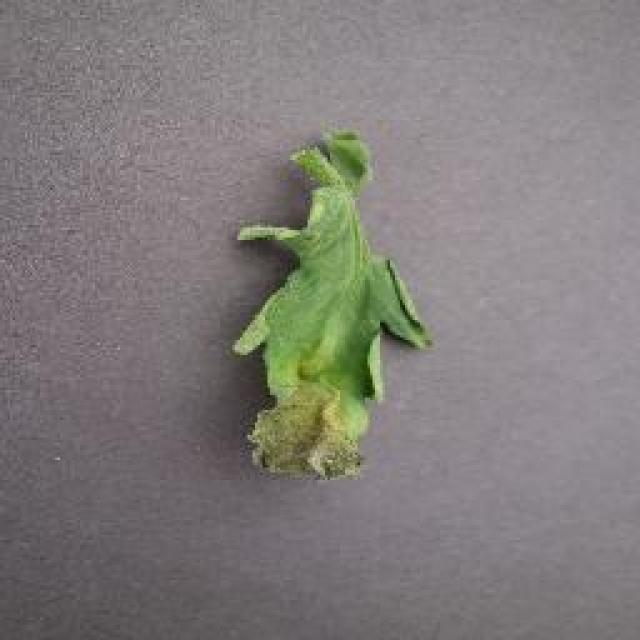Tomato Late Blight: (252, 333, 395, 515)
